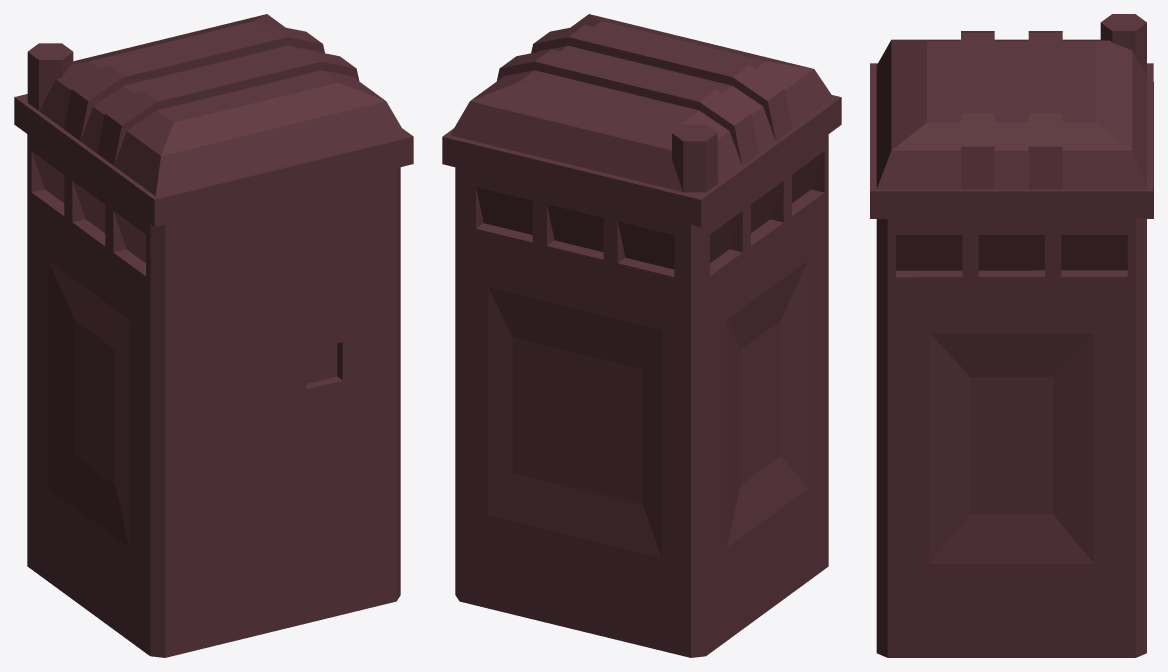
File: restroom-portable.fbx
3 views of the same model, side by side, from view 1: azimuth 30°, elevation 25°; view 2: azimuth 150°, elevation 25°; view 3: azimuth 270°, elevation 25° (orthographic).
Visible parts, largest first — view 1: restroom-portable; view 2: restroom-portable; view 3: restroom-portable.
Boxes of the visible parts, x1,y1,x2,y2 form: restroom-portable: [14, 14, 413, 657]; restroom-portable: [442, 14, 841, 657]; restroom-portable: [870, 14, 1153, 657].
Size of the model in its own units: 1.23 by 2.35 by 1.15.
